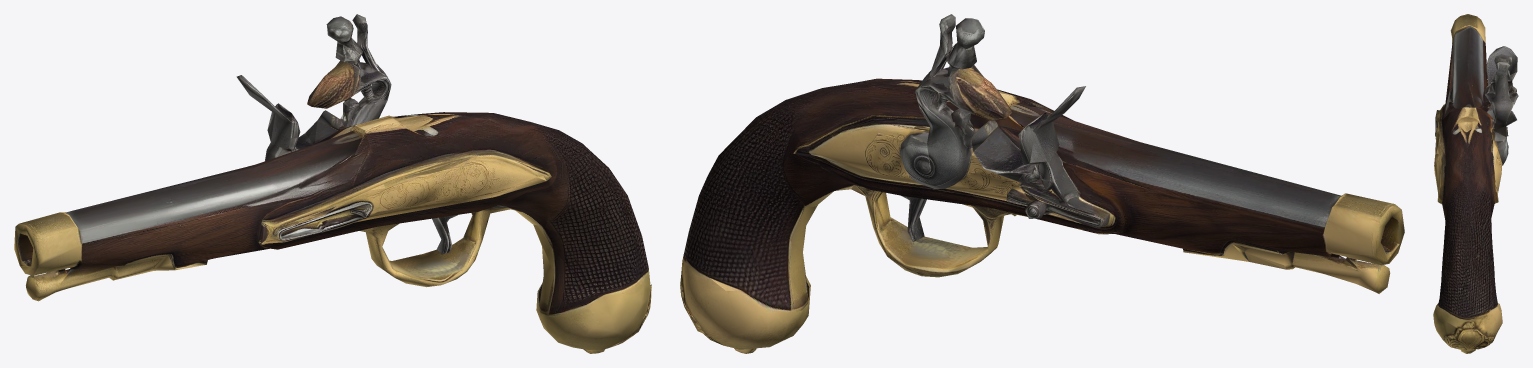
3 views of the same model, side by side, from view 1: azimuth 30°, elevation 25°; view 2: azimuth 150°, elevation 25°; view 3: azimuth 270°, elevation 25° (orthographic). The views are drawn at different scales.
Parts seen in each view (by area): view 1: Mesh_0.002; view 2: Mesh_0.002; view 3: Mesh_0.002.
Boxes of the visible parts, x1,y1,x2,y2 form: Mesh_0.002: (14, 14, 651, 353); Mesh_0.002: (680, 14, 1404, 353); Mesh_0.002: (1433, 14, 1518, 353).
Bounding box in the file's own units: 0.2123 × 0.12 × 0.0405.
1 material, 1 textured.
